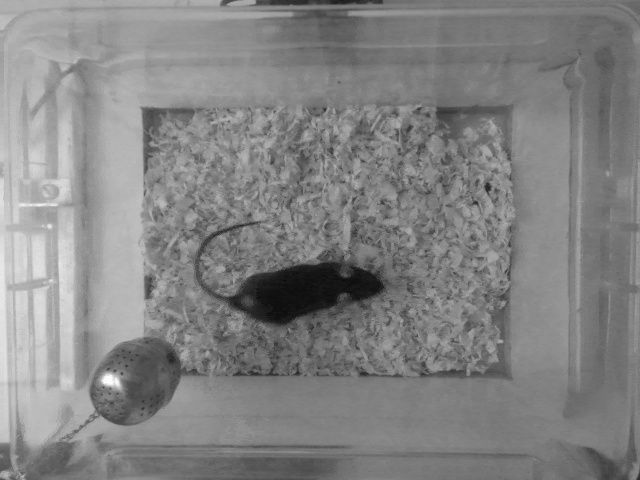mice: (192, 217, 384, 329)
